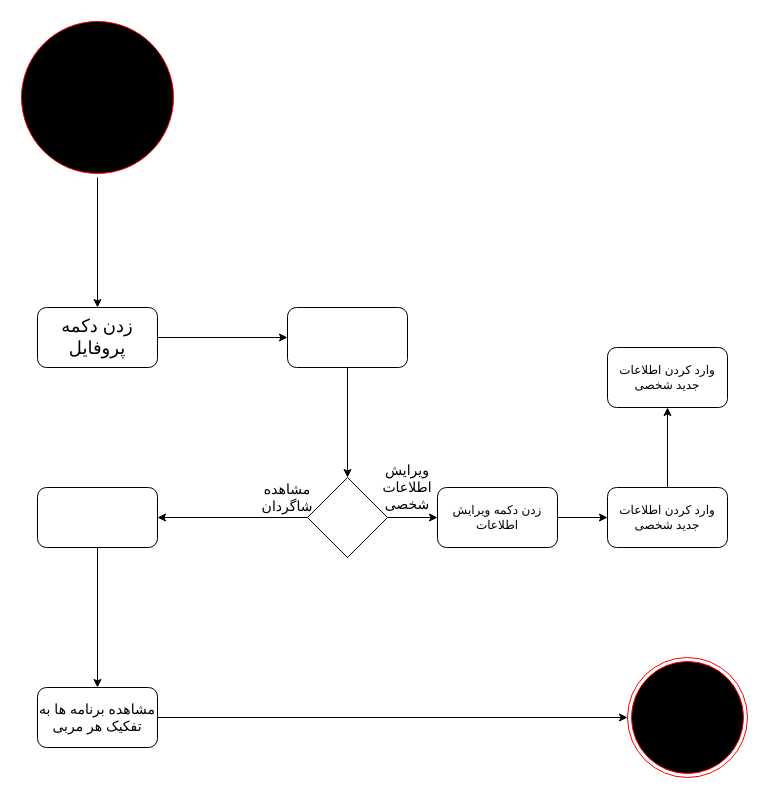
Image size: 765x795. Some labels were removed from this diagram. The shapes that lost their labels are listed below. From the top down, each one's centre as x and y in pixels, then its label:
point (347, 337): ورود به صفحه پروفایل و مشاهده گزینه های متعدد
point (97, 517): ورود به قسمت شاگرد های مربی
